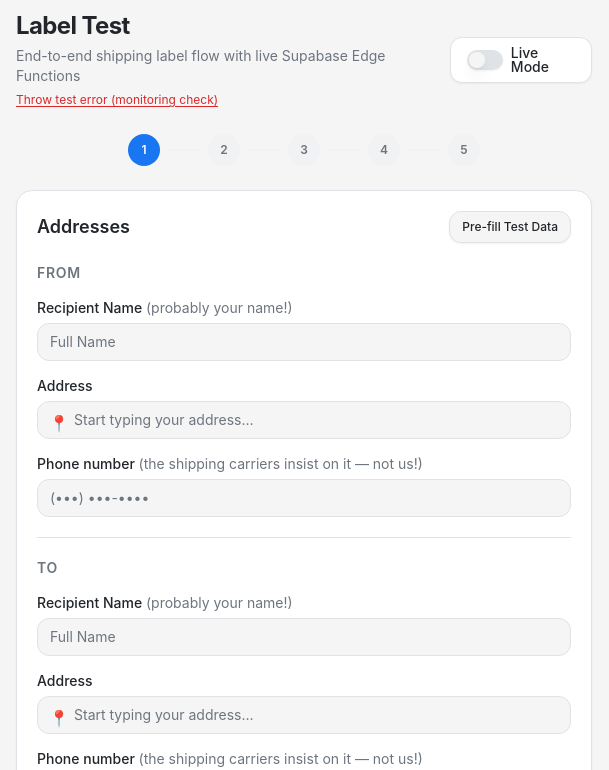
LabelTest page › shows autocomplete dropdown when typing in address field
Type "925 dean" into the field with placeholder "Start typing your address…" below "From".
click(304, 420); type("925 dean")  # box [37,401,571,439]
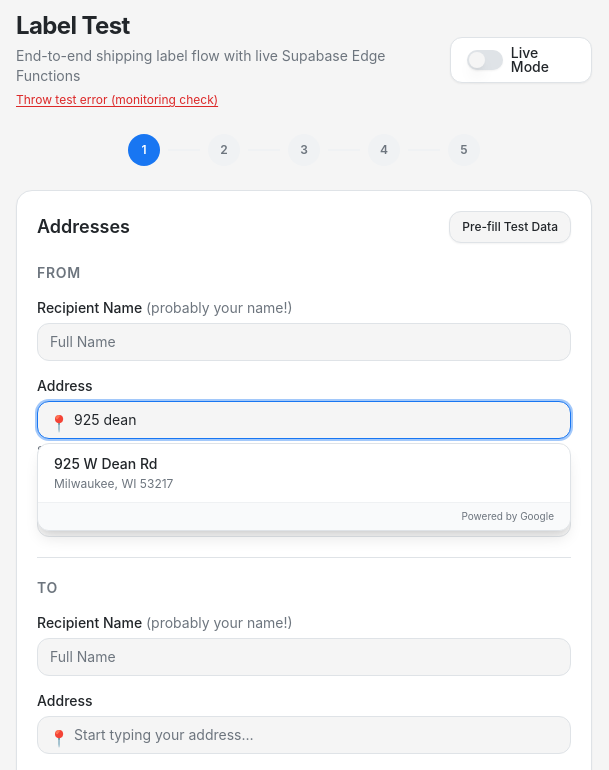
Expected: the text "925 W Dean Rd" is shown, [54,455,158,472]
Expected: the text "Milwaukee, WI 53217" is shown, [54,476,173,491]
Expected: the text "Powered by Google" is shown, [462,509,554,524]
